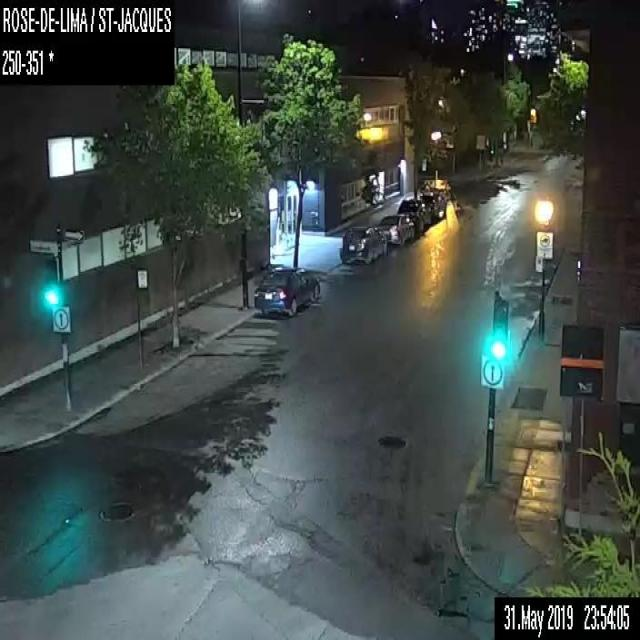vehicle: (252, 267, 320, 317), (341, 224, 388, 264), (377, 213, 415, 245), (396, 197, 431, 231), (419, 193, 446, 218)
